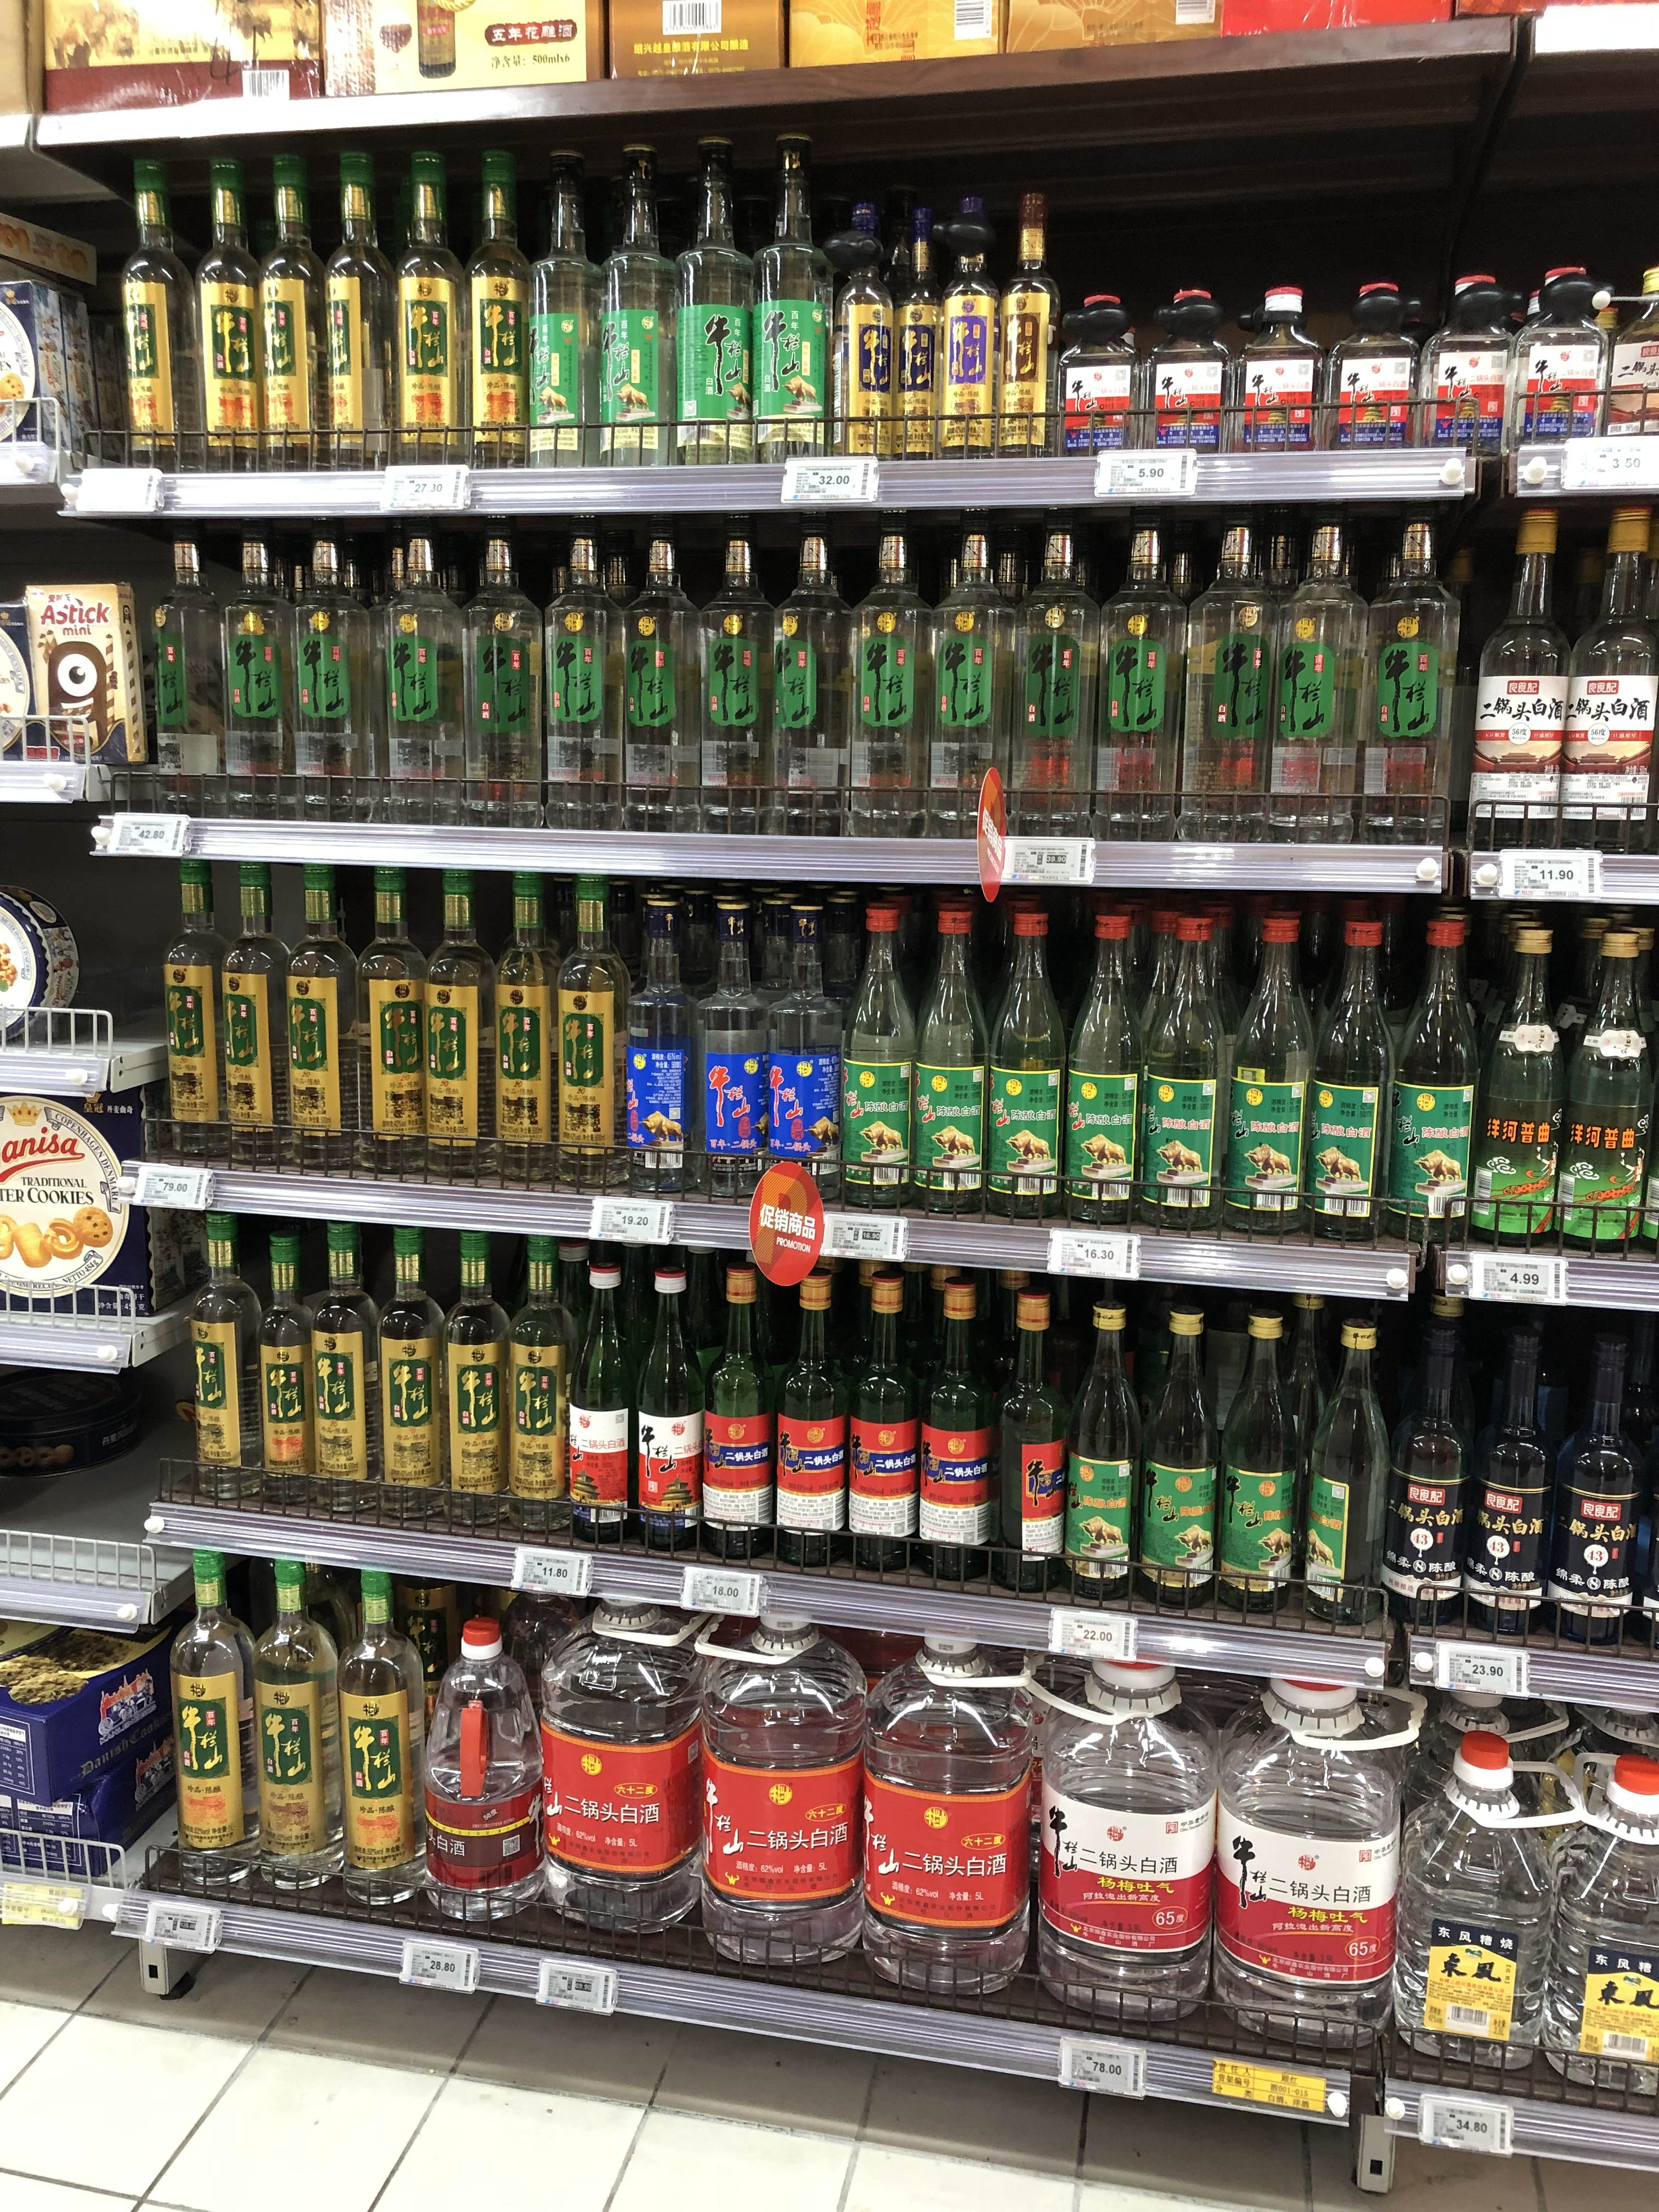bottle: (702, 1592, 871, 1979), (538, 1583, 711, 1947), (1378, 1730, 1547, 2081), (420, 1611, 547, 1932), (1542, 1756, 1657, 2107), (1466, 509, 1568, 852), (1554, 507, 1656, 852), (1377, 916, 1476, 1252), (1551, 928, 1652, 1258), (1373, 1303, 1473, 1637), (1460, 925, 1560, 1259), (1542, 1324, 1643, 1644), (1215, 914, 1312, 1244), (1457, 1322, 1558, 1639), (1297, 916, 1392, 1247), (251, 1552, 343, 1895), (336, 1566, 425, 1912), (169, 1548, 260, 1885), (1131, 916, 1225, 1237), (1263, 529, 1358, 848), (551, 871, 641, 1195), (667, 138, 755, 469), (746, 138, 833, 467), (1358, 535, 1446, 848), (1060, 914, 1148, 1228), (906, 900, 993, 1219), (831, 902, 920, 1214), (591, 141, 674, 470), (347, 871, 436, 1177), (162, 864, 251, 1170), (983, 907, 1068, 1224), (521, 148, 605, 470), (756, 902, 843, 1211), (1298, 1318, 1387, 1620), (371, 540, 464, 829), (1211, 1315, 1300, 1615), (688, 899, 775, 1202), (1190, 528, 1274, 843), (186, 155, 270, 470), (214, 869, 301, 1170), (112, 162, 199, 463), (1091, 536, 1176, 843), (1007, 543, 1093, 841), (915, 1280, 999, 1583), (1134, 1313, 1220, 1609), (617, 892, 699, 1200), (458, 150, 537, 467), (387, 152, 465, 469), (1061, 1305, 1145, 1599), (275, 873, 357, 1172), (847, 547, 931, 840), (179, 1216, 261, 1514), (842, 1271, 922, 1575), (760, 542, 842, 838), (423, 873, 502, 1181), (929, 543, 1011, 838), (369, 1226, 448, 1529), (692, 540, 772, 836), (612, 540, 692, 836), (261, 155, 336, 470), (319, 155, 394, 470), (488, 874, 563, 1186), (460, 542, 540, 831), (284, 540, 364, 827), (993, 1287, 1068, 1588), (214, 540, 295, 820), (699, 1271, 775, 1564), (774, 1273, 849, 1571), (535, 547, 612, 834), (502, 1245, 577, 1538), (152, 543, 234, 806), (439, 1233, 511, 1534), (242, 1223, 315, 1515), (303, 1223, 375, 1522), (633, 1270, 708, 1554), (565, 1263, 640, 1545), (819, 195, 894, 467), (993, 199, 1063, 463), (1420, 277, 1523, 456), (1511, 275, 1615, 451), (931, 199, 999, 463), (884, 204, 950, 462), (1328, 282, 1422, 453), (1234, 287, 1319, 458), (1143, 291, 1229, 451)
bucket: (1213, 1667, 1399, 2059), (859, 1615, 1037, 1996), (1039, 1648, 1216, 2027)
jar: (1051, 289, 1131, 460)
others: (0, 1630, 171, 1803), (0, 1103, 164, 1268), (30, 575, 145, 768), (2, 1742, 143, 1885), (3, 275, 94, 472), (2, 867, 70, 1040)
